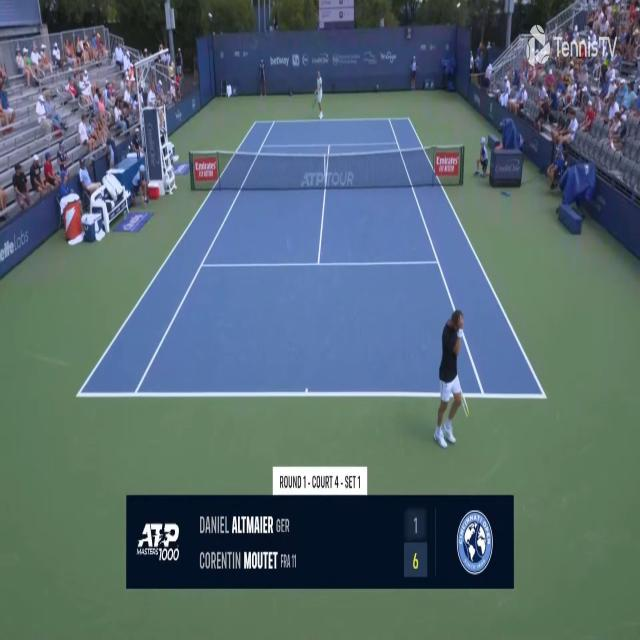tennis-player: (431, 306, 487, 452), (312, 67, 325, 120)
